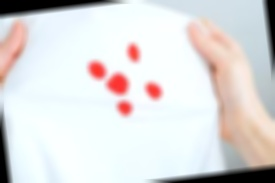blood: (105, 71, 130, 96), (88, 59, 107, 80), (144, 81, 163, 102), (116, 100, 134, 117), (126, 43, 140, 63)
